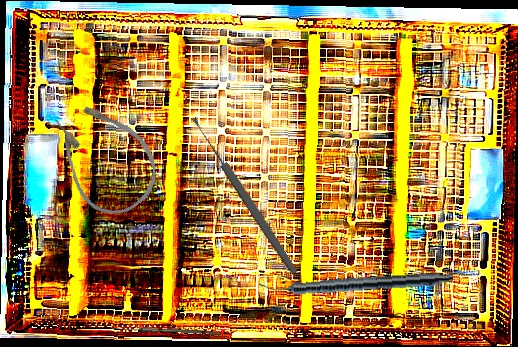Cannula: (36, 84, 173, 229)
Handpiece: (258, 267, 454, 299)
Surgical Spoon: (189, 114, 300, 277), (111, 326, 222, 335)
